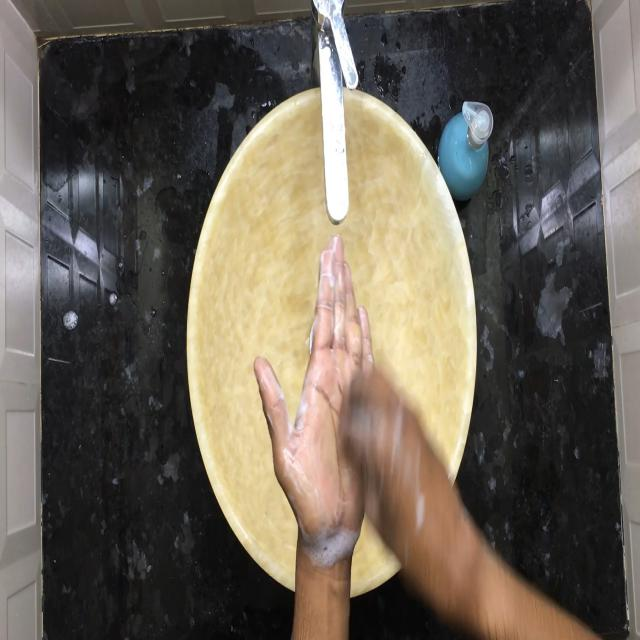step_6: (251, 229, 457, 583)
